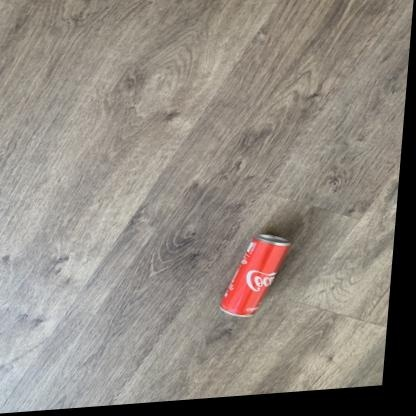trash: (220, 234, 289, 316)
